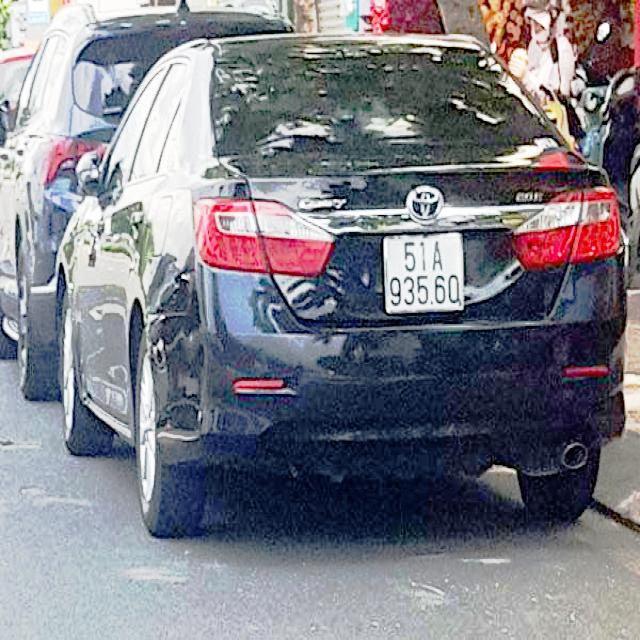license_plate: (384, 234, 467, 314)
